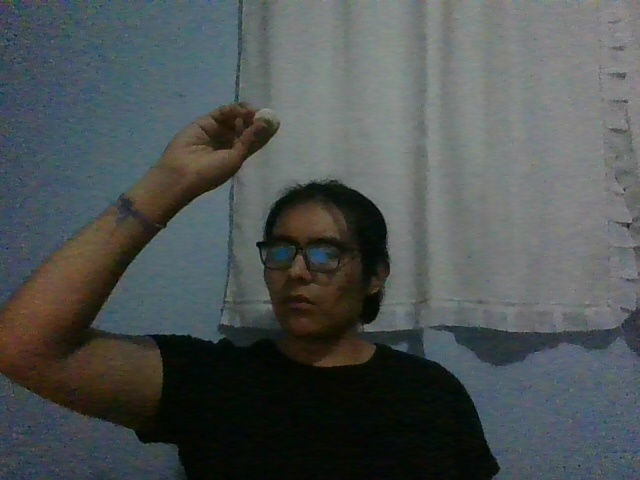goma: (253, 108, 280, 134)
